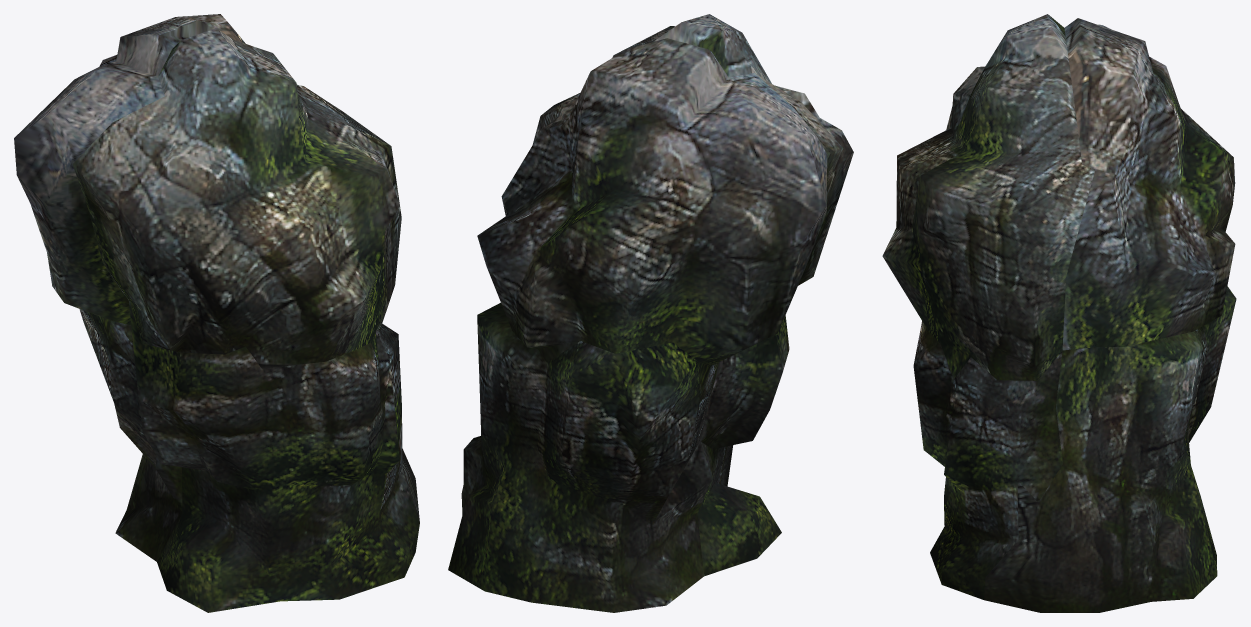
The model's file is Utility_Stone_Maincity12_03_LOD2.FBX.
3 views of the same model, side by side, from view 1: azimuth 30°, elevation 25°; view 2: azimuth 150°, elevation 25°; view 3: azimuth 270°, elevation 25° (orthographic). The views are drawn at different scales.
Visible parts, largest first — view 1: Utility_Stone_Maincity12_03_LOD2; view 2: Utility_Stone_Maincity12_03_LOD2; view 3: Utility_Stone_Maincity12_03_LOD2.
Part boxes in pixels (box(x1,y1,x2,y2)): Utility_Stone_Maincity12_03_LOD2: box(14, 14, 419, 612); Utility_Stone_Maincity12_03_LOD2: box(448, 14, 853, 612); Utility_Stone_Maincity12_03_LOD2: box(882, 14, 1236, 612).
Size of the model in its own units: 13948 by 19361 by 12503.
